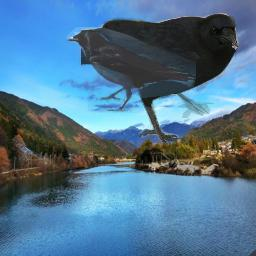Crow: (81, 13, 239, 145), (66, 27, 196, 113)
